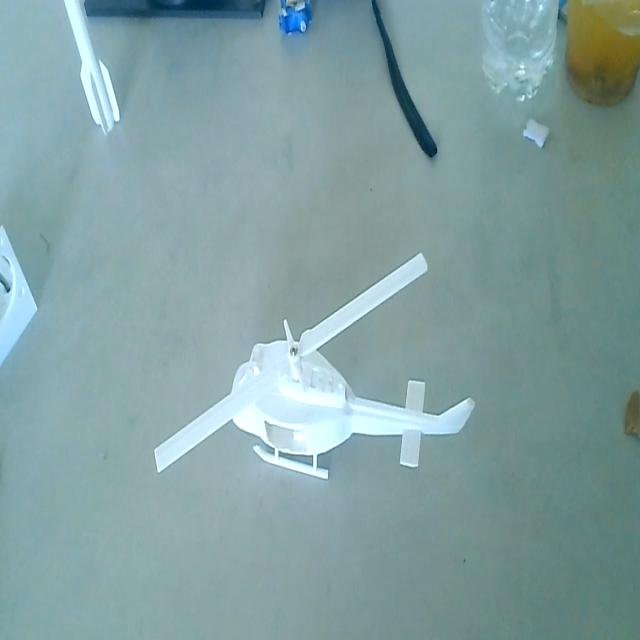Helicopter: (147, 250, 475, 505)
Rocket: (59, 0, 125, 135)
